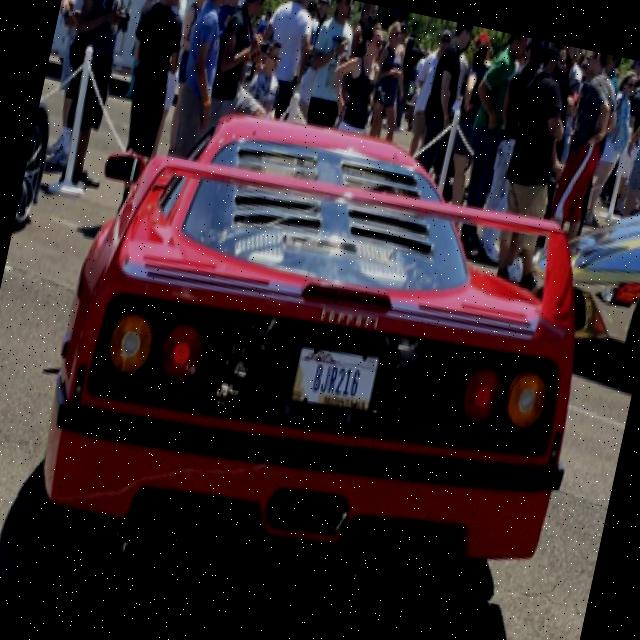Autre: (292, 342, 384, 413)
